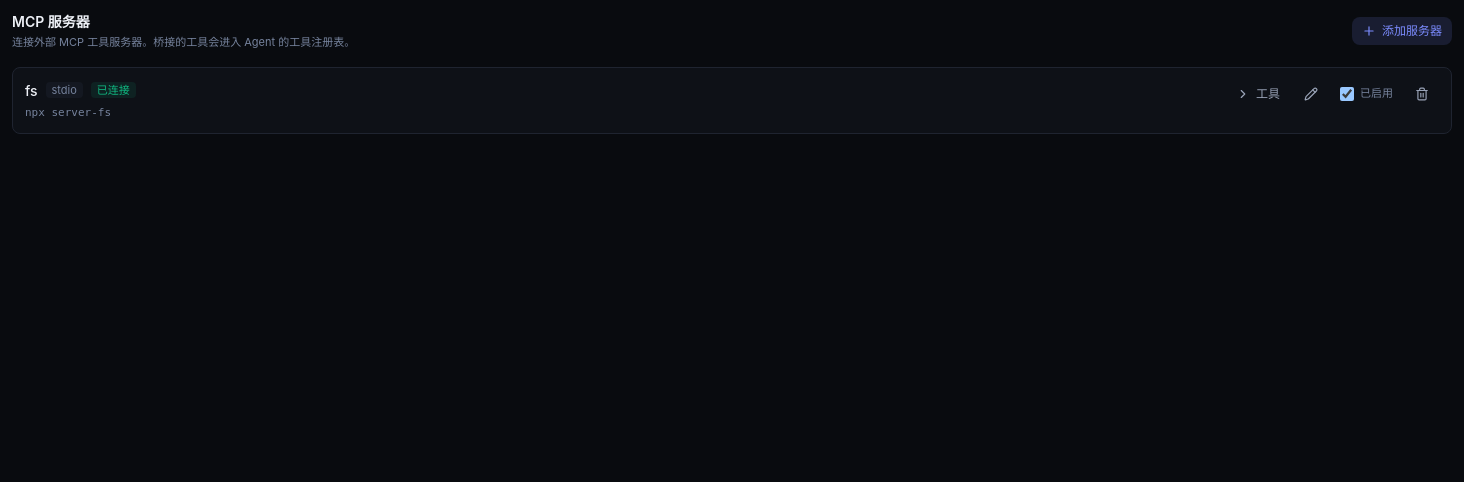
Test: MCP tool tester (P1-5) › rejects non-object JSON args without invoking the tool
Expected: the list item with test id "settings-mcp-server-srv_1" is shown, x1=12 y1=66 x2=1452 y2=134
Step 1. Click the button with test id "settings-mcp-expand-srv_1" → (1258, 94), box x1=1226 y1=80 x2=1290 y2=108
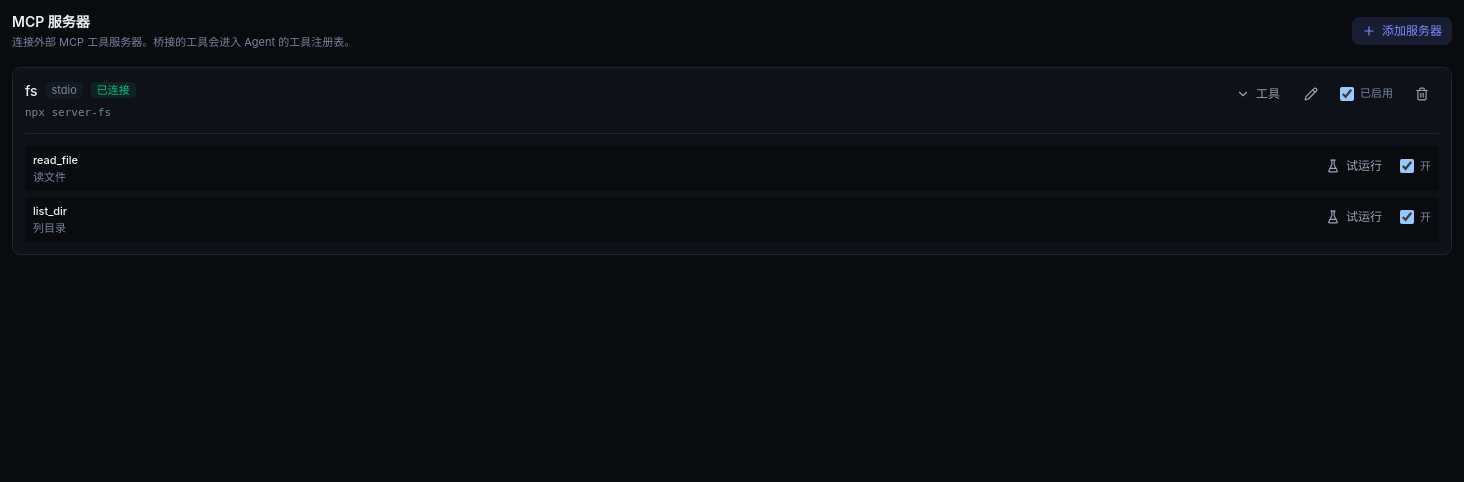
Result: the list with test id "settings-mcp-tools-srv_1" is shown at x1=25 y1=146 x2=1439 y2=242
Step 2. Click the button with test id "settings-mcp-test-srv_1-read_file" → (1354, 166), box x1=1316 y1=152 x2=1392 y2=180
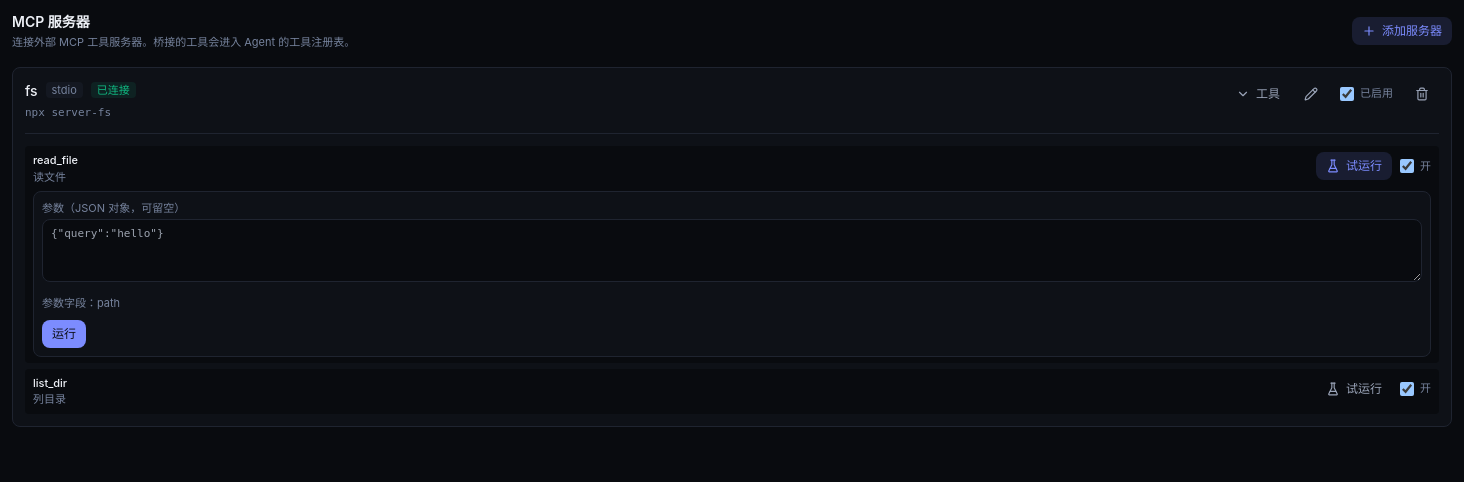
Result: the element with test id "settings-mcp-tester-srv_1-read_file" is shown at x1=33 y1=191 x2=1431 y2=356
Step 3. Type "[1,2]" into the text box with test id "settings-mcp-tester-args-srv_1-read_file" → (732, 250), box x1=42 y1=218 x2=1422 y2=282
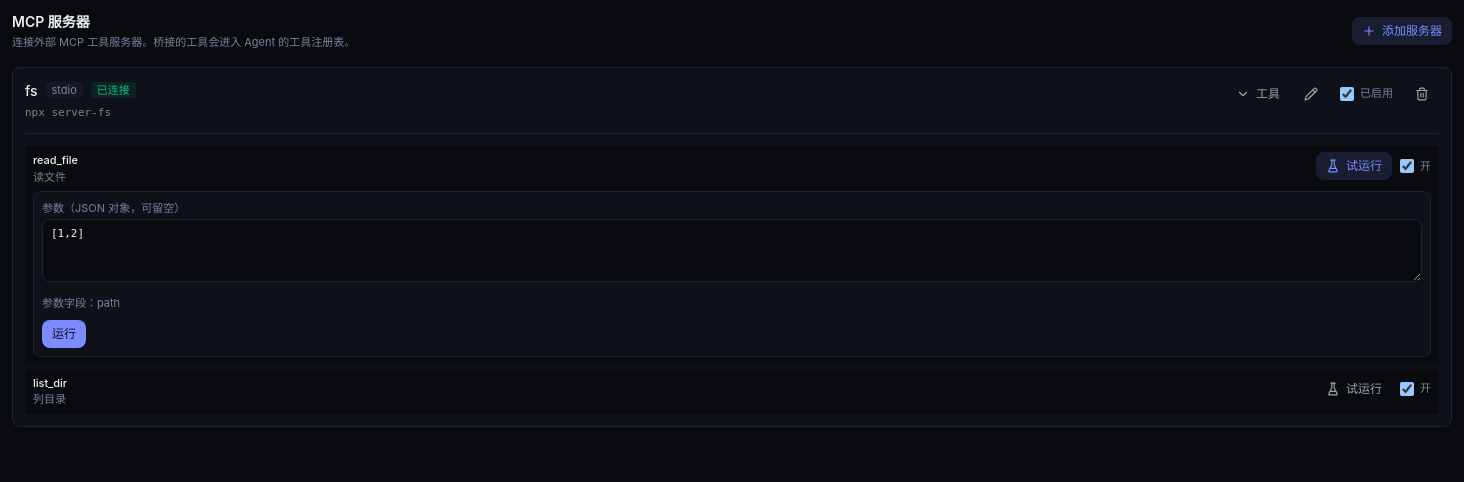
Step 4. Click the button with test id "settings-mcp-tester-run-srv_1-read_file" → (64, 334), box x1=42 y1=320 x2=86 y2=348
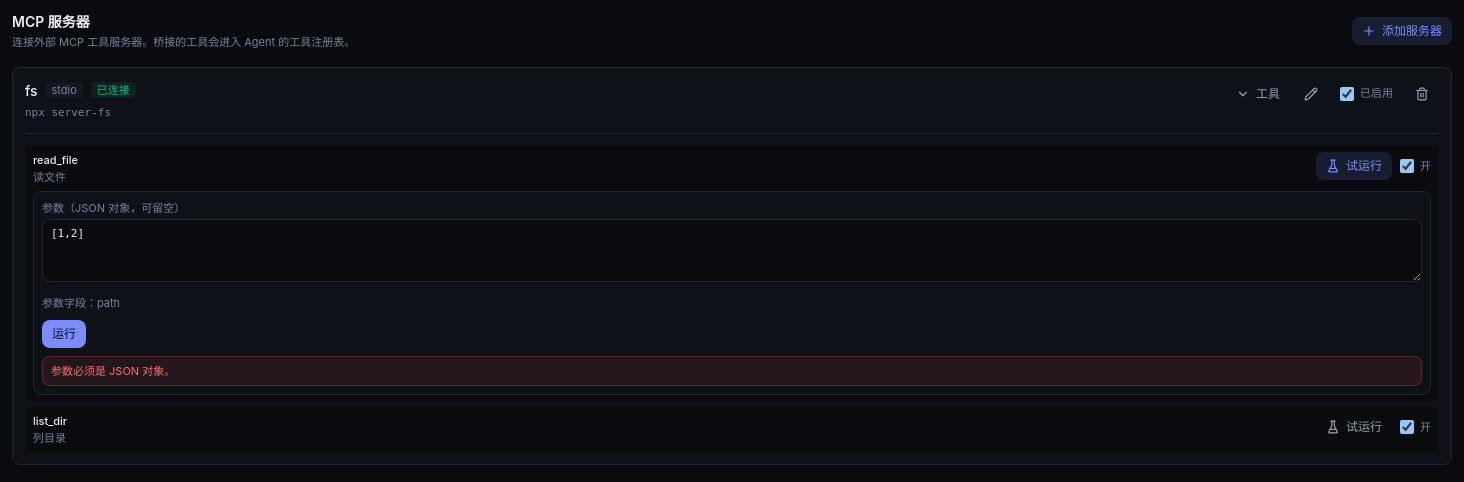
Result: the message with test id "settings-mcp-tester-error-srv_1-read_file" shows "参数必须是 JSON 对象" at x1=51 y1=364 x2=175 y2=378
